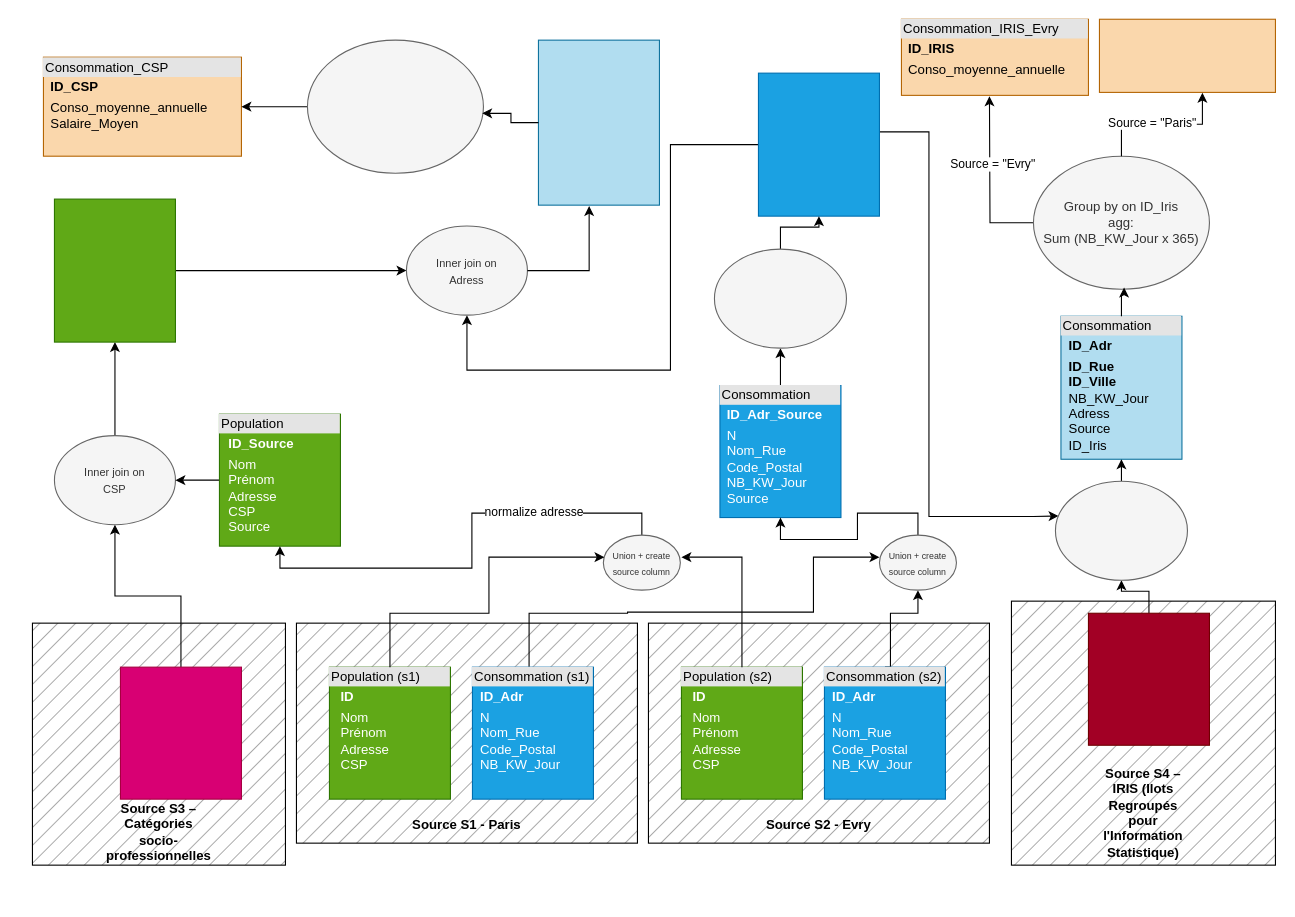
This 1295x917 diagram has some shape labels left out. Here are the shapes that lost their labels. From the top down, the centre of each, then its label:
(1186,55): Consommation_IRIS_Paris ID_IRIS Conso_moyenne_annuelle
(394,106): Group by on CSP agg: Average (NB_KW_Jour x 365)
(598,122): Population ID Nom Prénom Adresse Source CSP Salaire_Moyen NB_KW_Jour
(818,144): Consommation ID_Adr N Nom_Rue Code_Postal NB_KW_Jour Adress Source
(114,270): Population ID Nom Prénom Adresse Source CSP Salaire_Moyen
(779,298): create 'adresse' from N, Nom_Rue, Code_Postal
(1120,530): Inner Join on ID_RUE == Nom_Rue &, ID_Ville == Code_Postal
(1148,678): IRIS ID_Rue ID_Ville ID_Iris
(180,732): CSP ID_CSP Desc Salaire_Moyen Salaire_Min Salaire_Max
